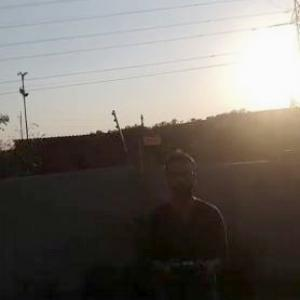follow: (140, 145, 236, 299)
